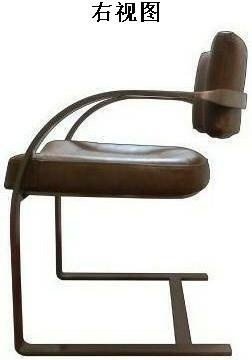obstacle: (5, 32, 246, 355)
